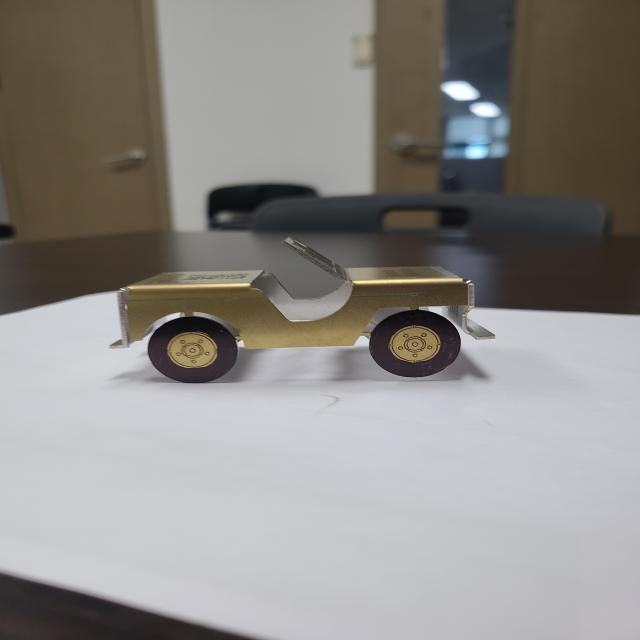tire: (368, 310, 462, 380), (145, 317, 236, 385)
